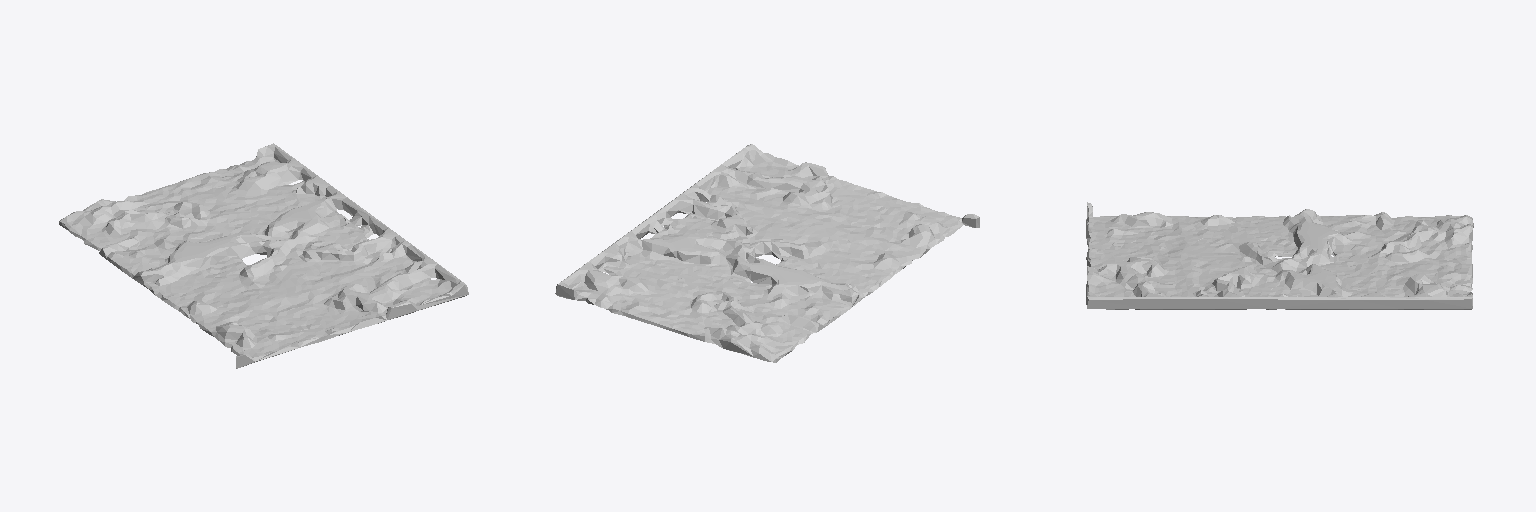
3 renders of one model, left to right at view 1: azimuth 30°, elevation 25°; view 2: azimuth 150°, elevation 25°; view 3: azimuth 270°, elevation 25°, orthographic.
Parts seen in each view (by area): view 1: Liquid_Domain; view 2: Liquid_Domain; view 3: Liquid_Domain.
Boxes of the visible parts, x1=… form: Liquid_Domain: x1=59, y1=143, x2=468, y2=368; Liquid_Domain: x1=555, y1=144, x2=979, y2=362; Liquid_Domain: x1=1086, y1=202, x2=1473, y2=309.
Bounding box in the file's own units: 116 × 13.86 × 168.